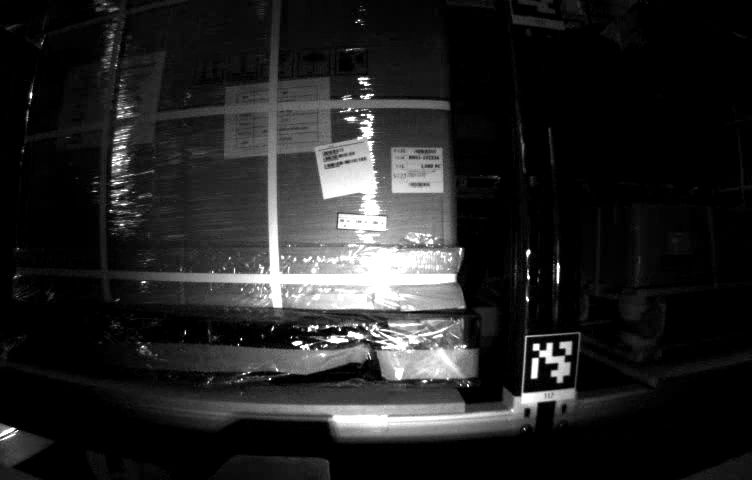True Barcode: (389, 145, 445, 193)
